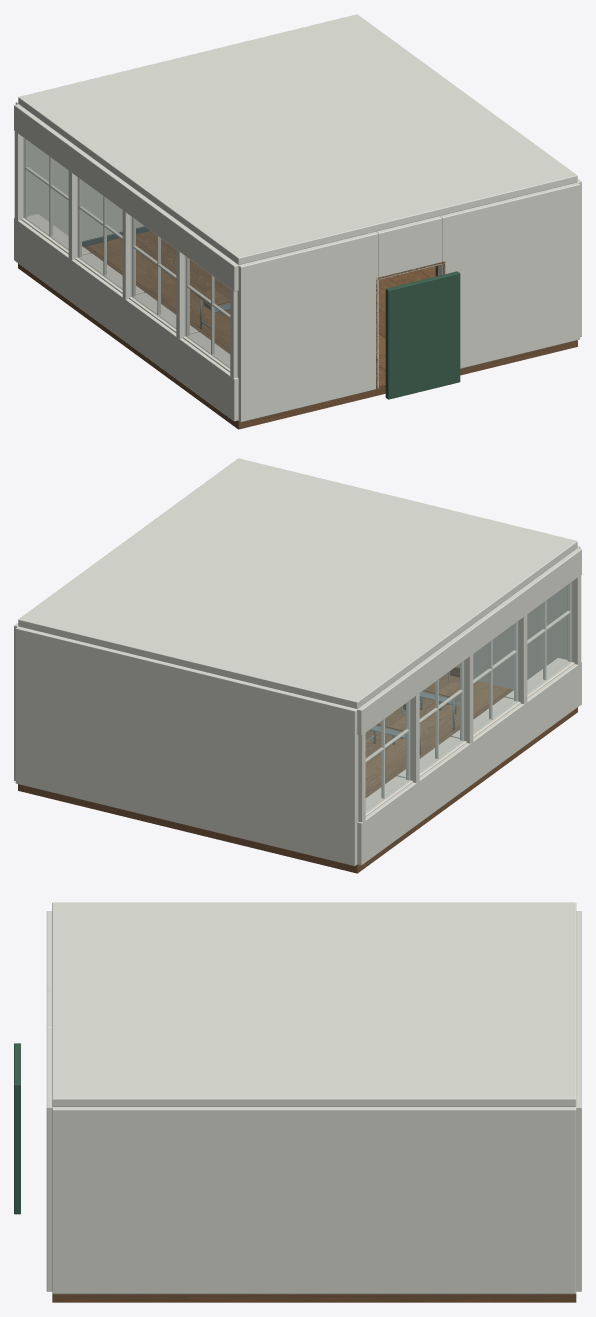
3 renders of one model, top to bottom at view 1: azimuth 30°, elevation 25°; view 2: azimuth 150°, elevation 25°; view 3: azimuth 270°, elevation 25°, orthographic. The views are drawn at different scales.
Visible parts, largest first — view 1: 1-2__architecture_and_equipment; view 2: 1-2__architecture_and_equipment; view 3: 1-2__architecture_and_equipment.
Boxes of the visible parts, <box> form: 1-2__architecture_and_equipment: <box>14,14,581,429</box>; 1-2__architecture_and_equipment: <box>14,458,581,873</box>; 1-2__architecture_and_equipment: <box>14,902,581,1302</box>.
Bounding box in the file's own units: 8.2 × 3.86 × 9.76.
14 materials, 1 textured.
